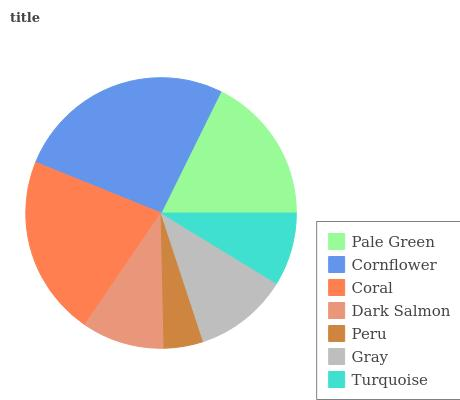legend: (316, 222, 460, 399)
sector: (37, 69, 222, 213), (16, 163, 160, 324), (162, 91, 297, 212), (162, 213, 276, 343), (85, 213, 162, 349), (162, 212, 304, 282), (160, 213, 204, 350)
